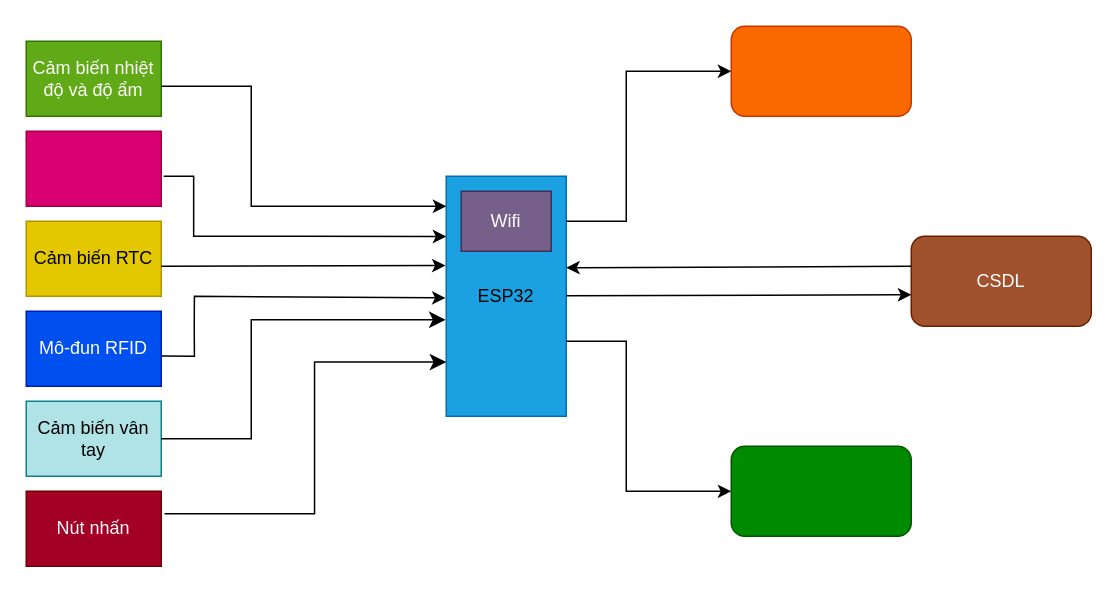
The diagram is 1118 pixels wide and 593 high, and some of its shapes have lost their labels. The centre of each missing label's shape, as x and y in pixels:
"Còi, Loa" belongs at pixel 820 70.
"Cảm biến MQ" belongs at pixel 93 168.
"LCD" belongs at pixel 820 490.
